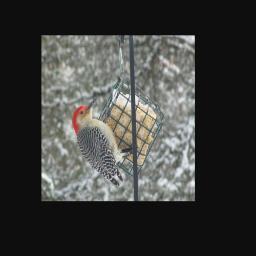Woodpecker: (72, 100, 135, 186)
